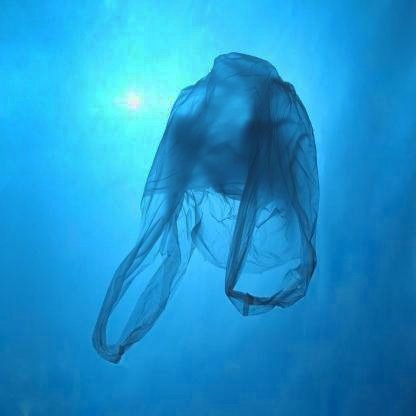pbag: (80, 43, 325, 368)
